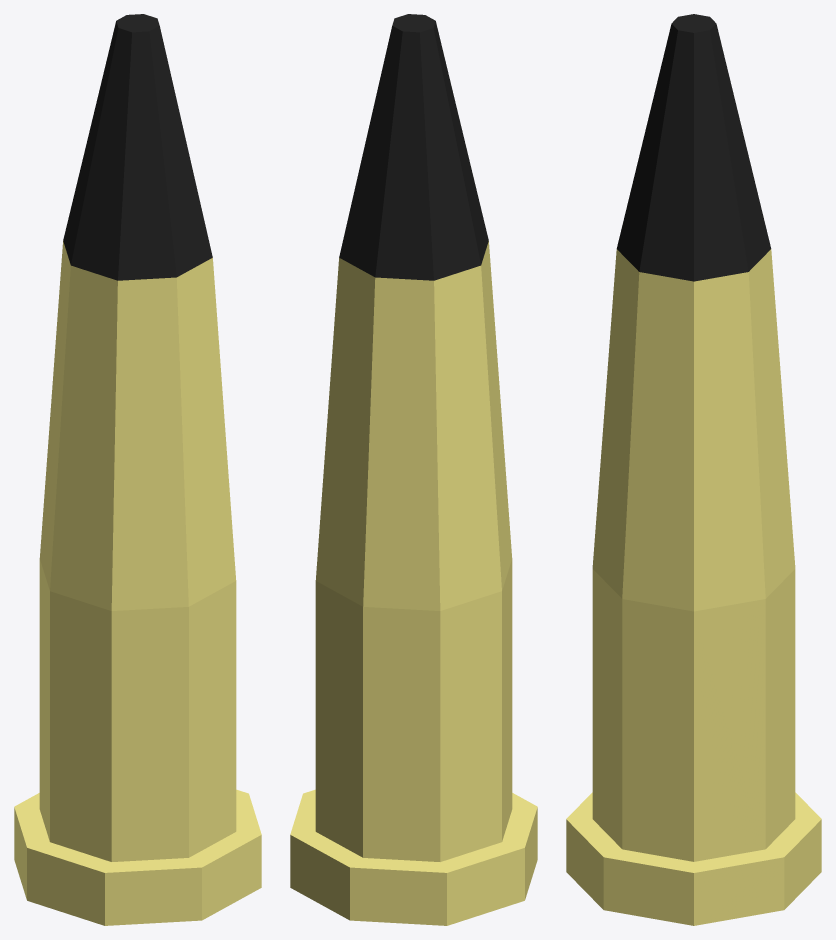
The model's file is Normal_Missile_Enemy.fbx.
3 renders of one model, left to right at view 1: azimuth 30°, elevation 25°; view 2: azimuth 150°, elevation 25°; view 3: azimuth 270°, elevation 25°, orthographic.
Visible parts, largest first — view 1: Cylinder; view 2: Cylinder; view 3: Cylinder.
Boxes of the visible parts, x1=… form: Cylinder: x1=14, y1=14, x2=261, y2=925; Cylinder: x1=290, y1=14, x2=537, y2=925; Cylinder: x1=566, y1=14, x2=821, y2=925.
Size of the model in its own units: 108 by 397 by 108.
